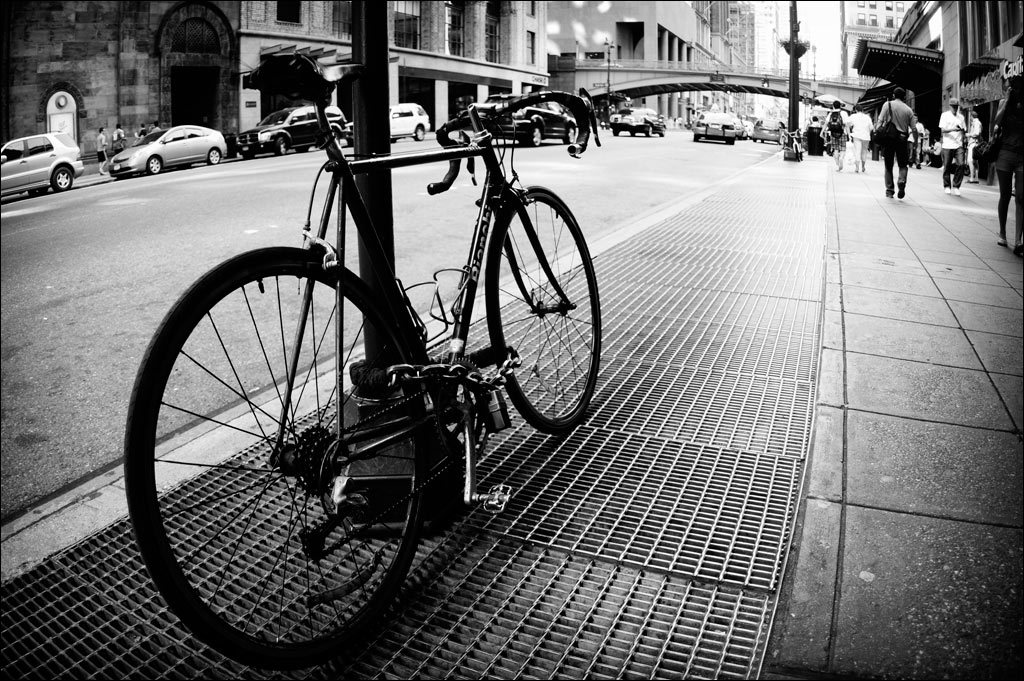Car: (103, 121, 231, 179), (229, 97, 355, 153), (0, 128, 83, 205), (465, 91, 577, 147), (346, 100, 433, 147), (606, 104, 670, 140), (691, 111, 743, 140), (392, 104, 428, 142), (753, 118, 785, 142)
